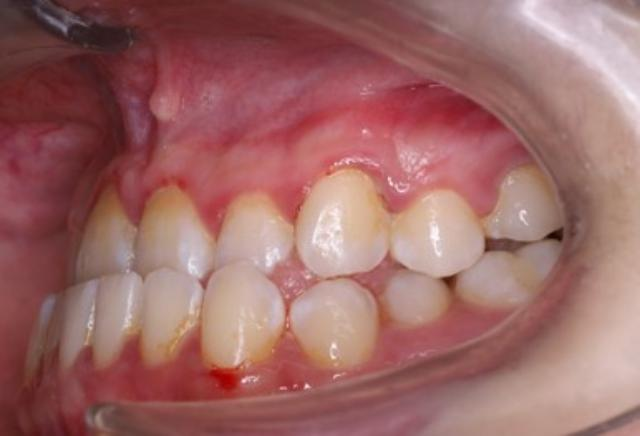canine class II 1/2: (194, 180, 382, 374)
molar class III 1/2: (457, 160, 568, 318)
